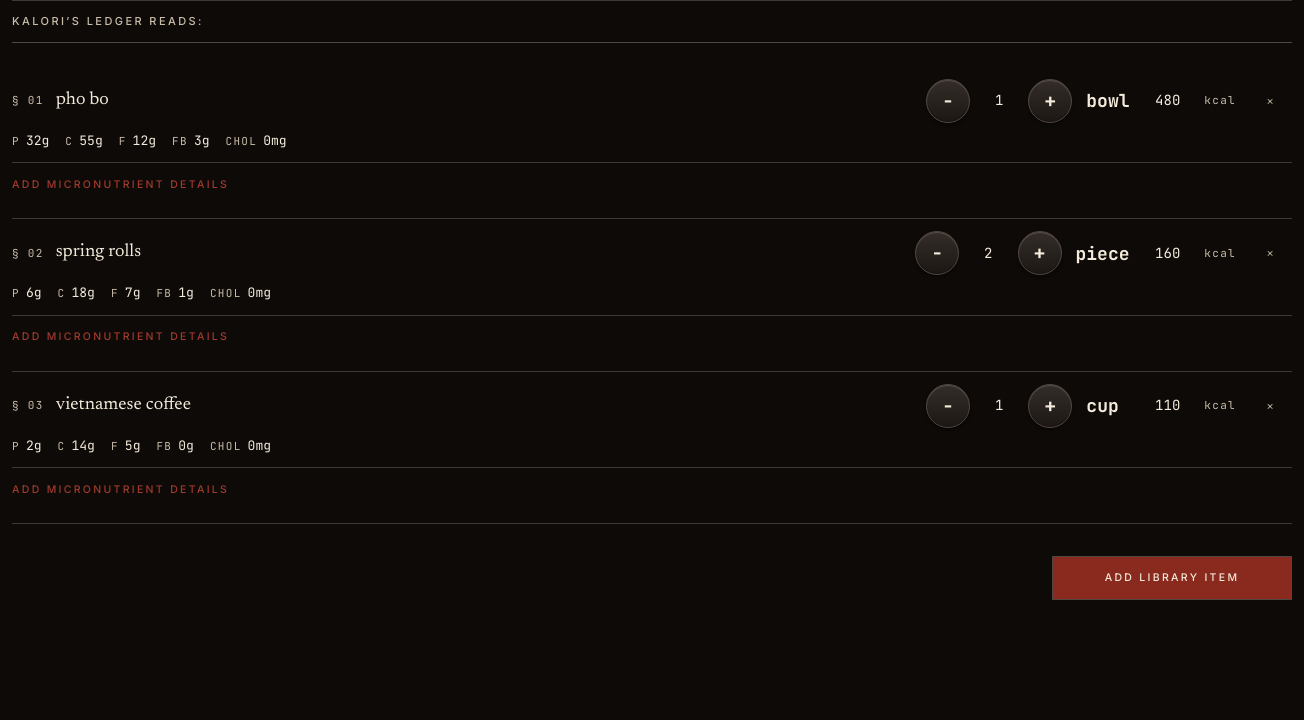
it: <ConfirmationScreen /> › E.CODEX Round-2 R2 — schema-valid client_ids + server-409 banner › C2: server 409 on row 1+ seeds dedupMatch and renders LibraryOnlyDedupBanner
The image size is (1304, 720).
Click the button with test id "confirmation-save".
click(1172, 578)  # box [1052, 556, 1292, 600]
(page scrolled)
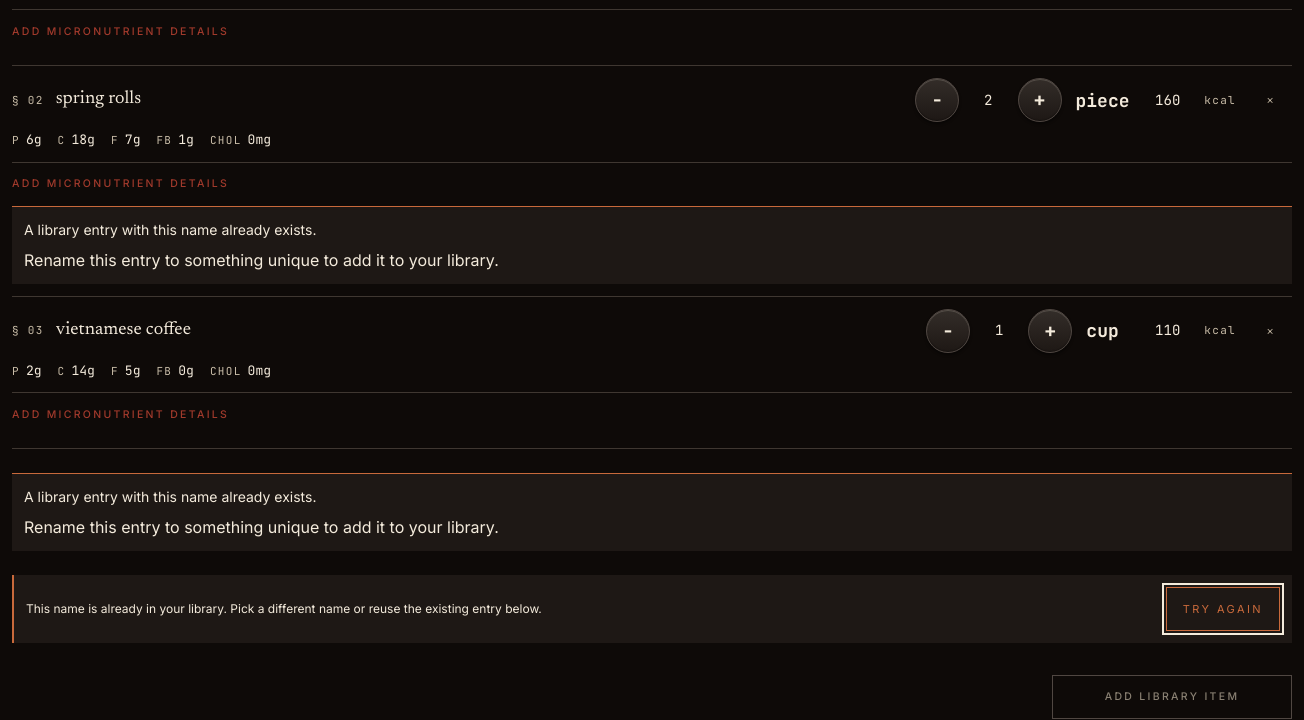
Now the message with test id "library-only-dedup-banner" is shown, box [12, 473, 1292, 551]
